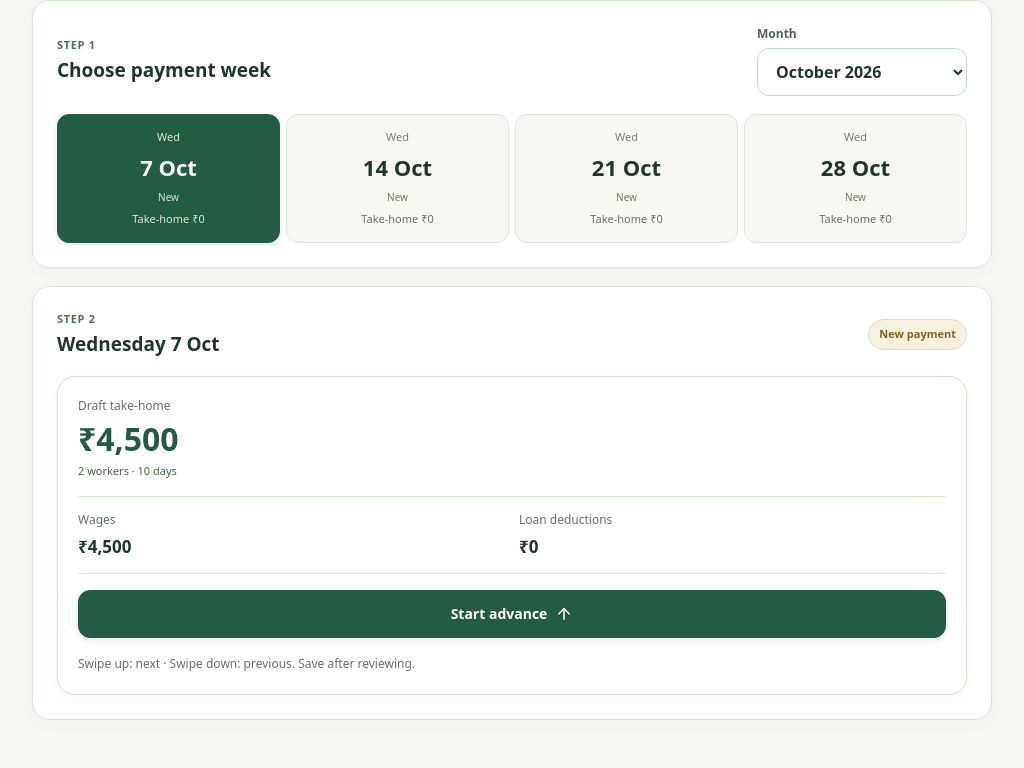
Scenario: phone weekly-pay cards › keeps a failed save in the close prompt and allows retrying the unchanged draft
(page scrolled)
Step 1. Click the button "Start advance" → [512, 614], box [78,590,946,638]
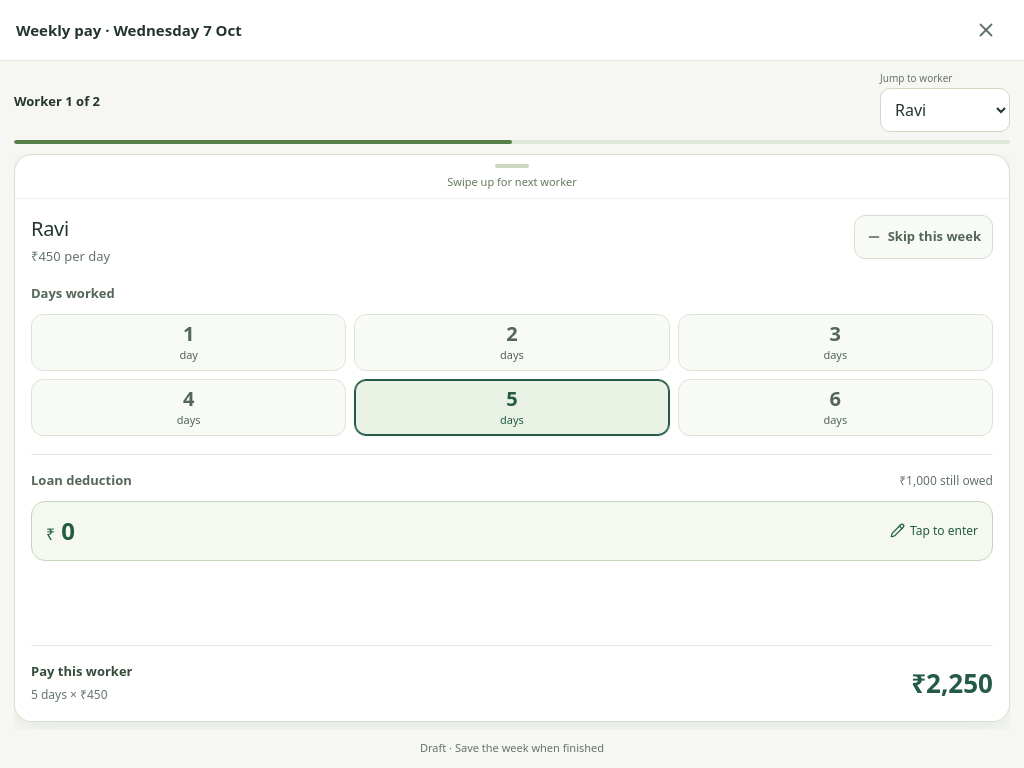
Step 2. Click the button with aria-label "3 days for Ravi" → [835, 342], box [678,314,993,371]
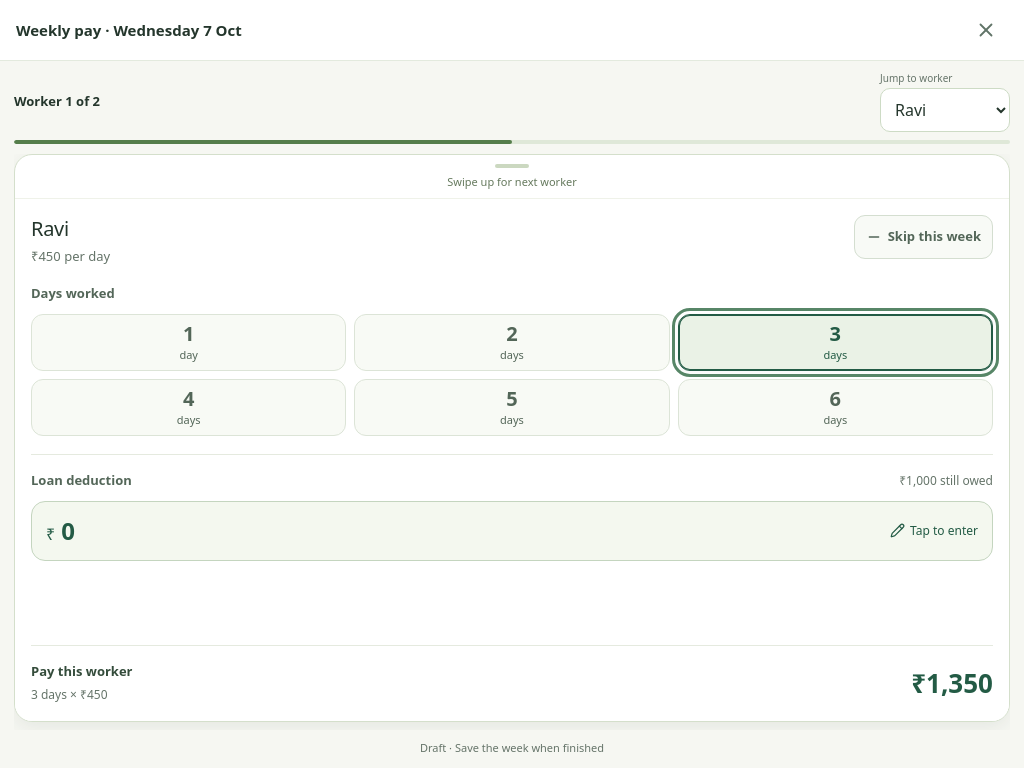
Step 3. Click the button named "Close panel" → [986, 30], box [964,8,1008,52]
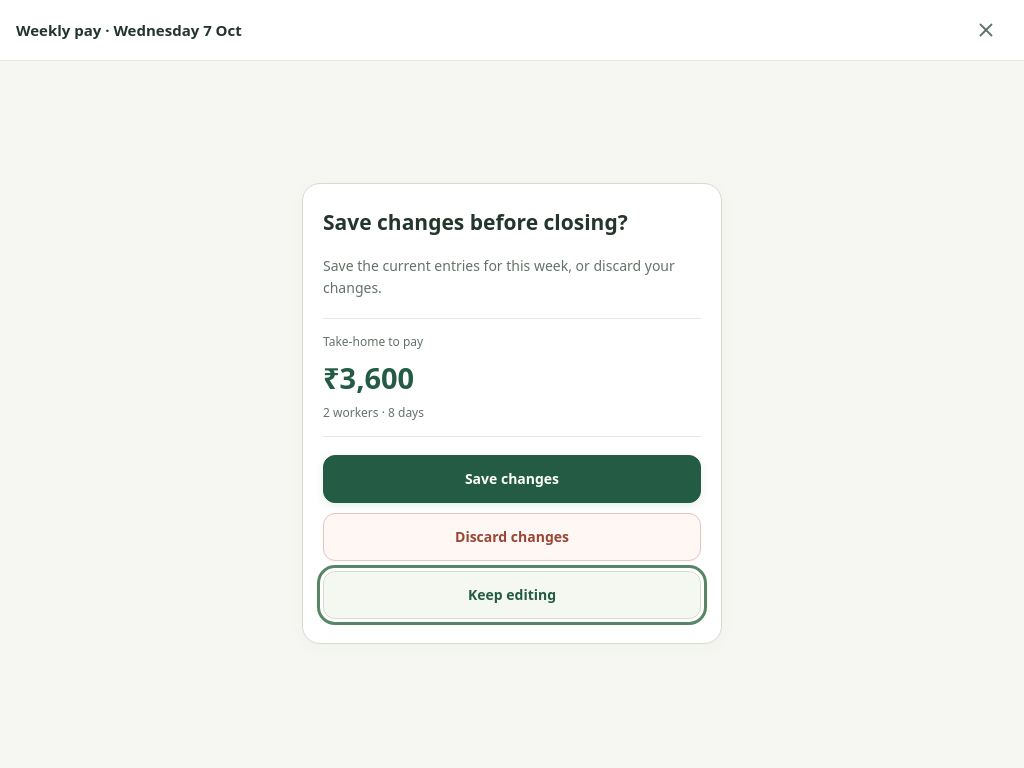
Step 4. Click the button "Save changes" → [512, 479], box [323,455,701,503]
(page scrolled)
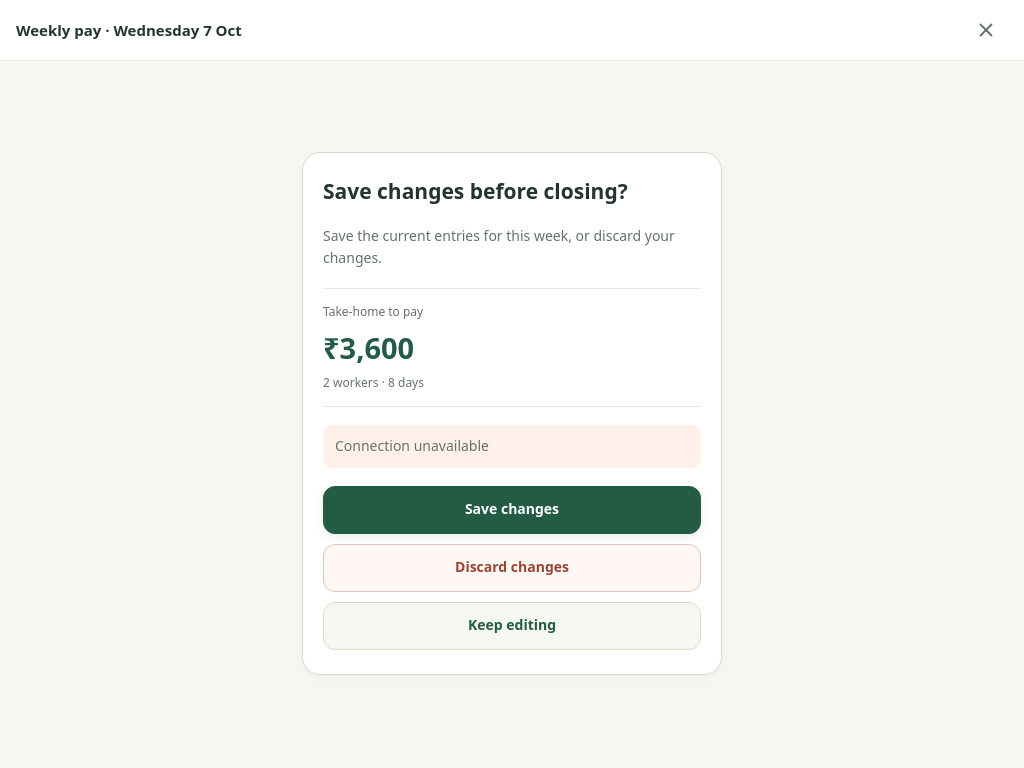
Expected: the message reads "Connection unavailable", [335,436,489,455]
Step 5. Click the button "Save changes" → [512, 510], box [323,486,701,534]
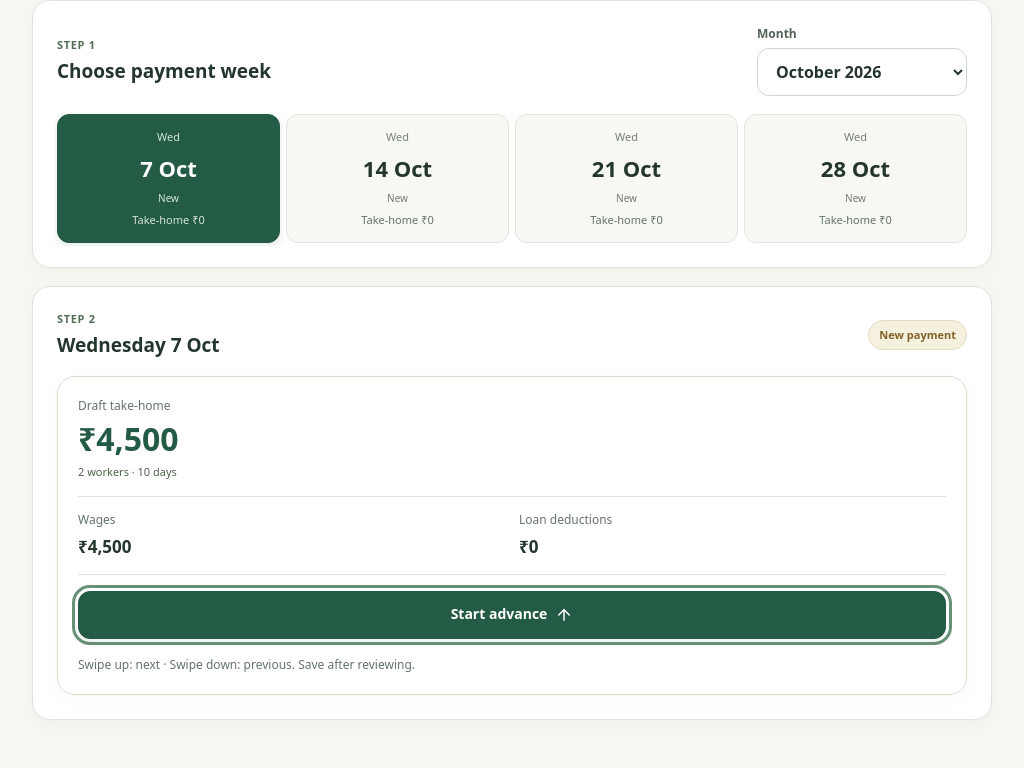
Expected: the dialog is gone
